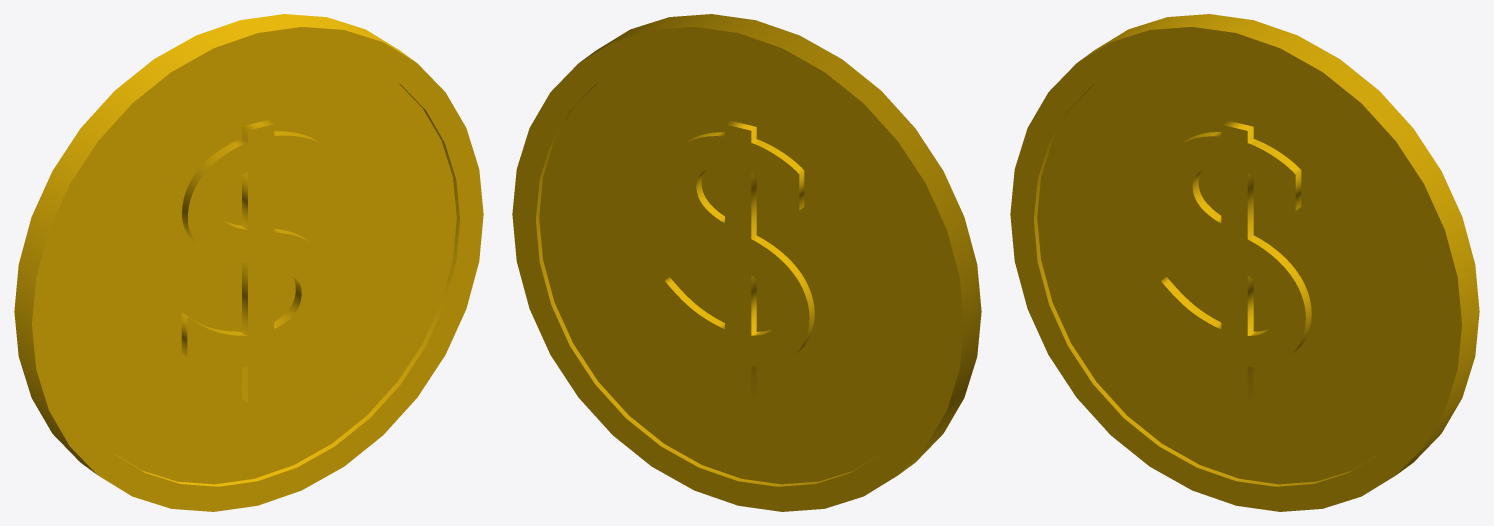
The model's file is Coin.fbx.
3 renders of one model, left to right at view 1: azimuth 30°, elevation 25°; view 2: azimuth 150°, elevation 25°; view 3: azimuth 330°, elevation 25°, orthographic.
Parts seen in each view (by area): view 1: Coin, Text; view 2: Coin, Text.001; view 3: Coin, Text.
Boxes of the visible parts, x1,y1,x2,y2 form: Coin: (14, 14, 483, 511); Text: (181, 120, 332, 402); Coin: (512, 14, 981, 511); Text.001: (664, 120, 814, 402); Coin: (1010, 14, 1479, 511); Text: (1161, 120, 1311, 403).
Size of the model in its own units: 200 by 200 by 16.79.
